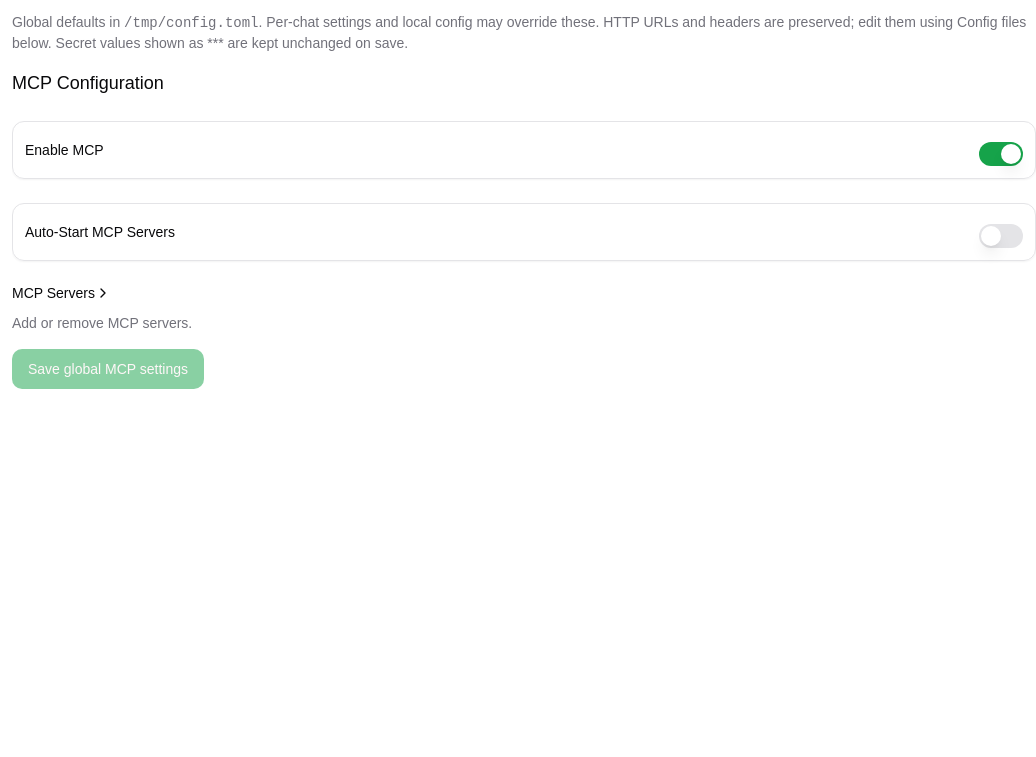
Test: prevents renaming servers with redacted environment or header secrets
The width and height of the screenshot is (1036, 757).
Expected: the text "/tmp/config.toml" is shown, [124, 15, 258, 31]
Click the button "MCP Servers Add or remove MCP servers." at (102, 309), box [12, 285, 192, 333]
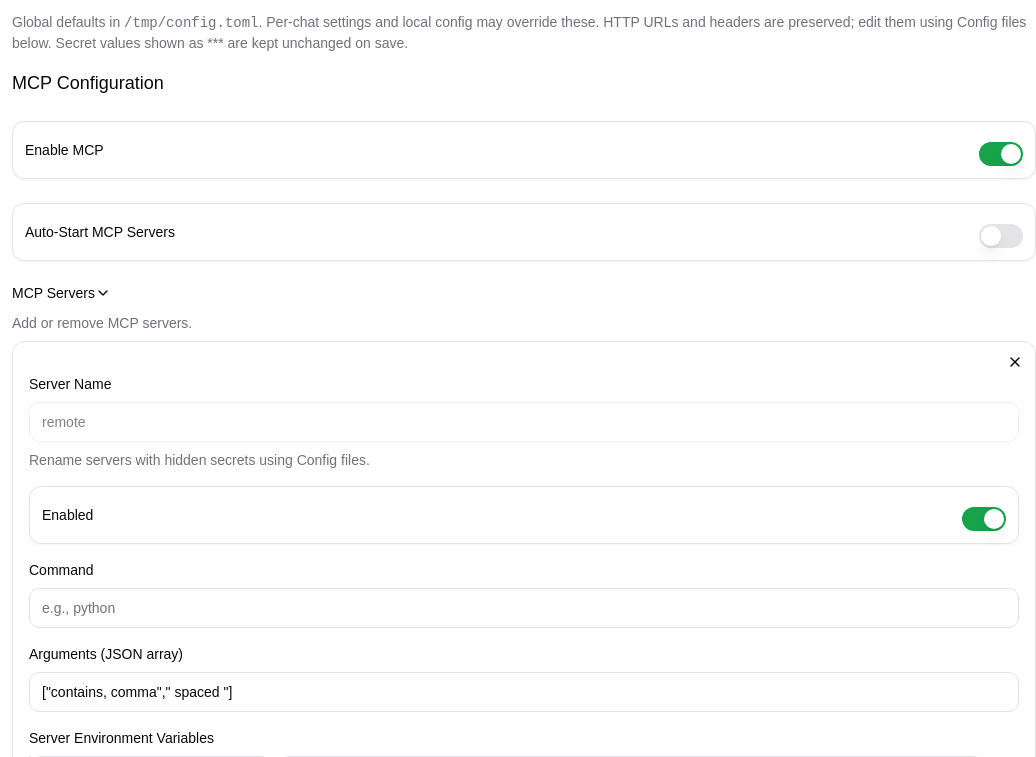
Expected: the field labelled "Server Name" is disabled, [29, 402, 1019, 442]
Expected: the text "Rename servers with hidden secrets using Config files." is shown, [29, 452, 370, 468]
